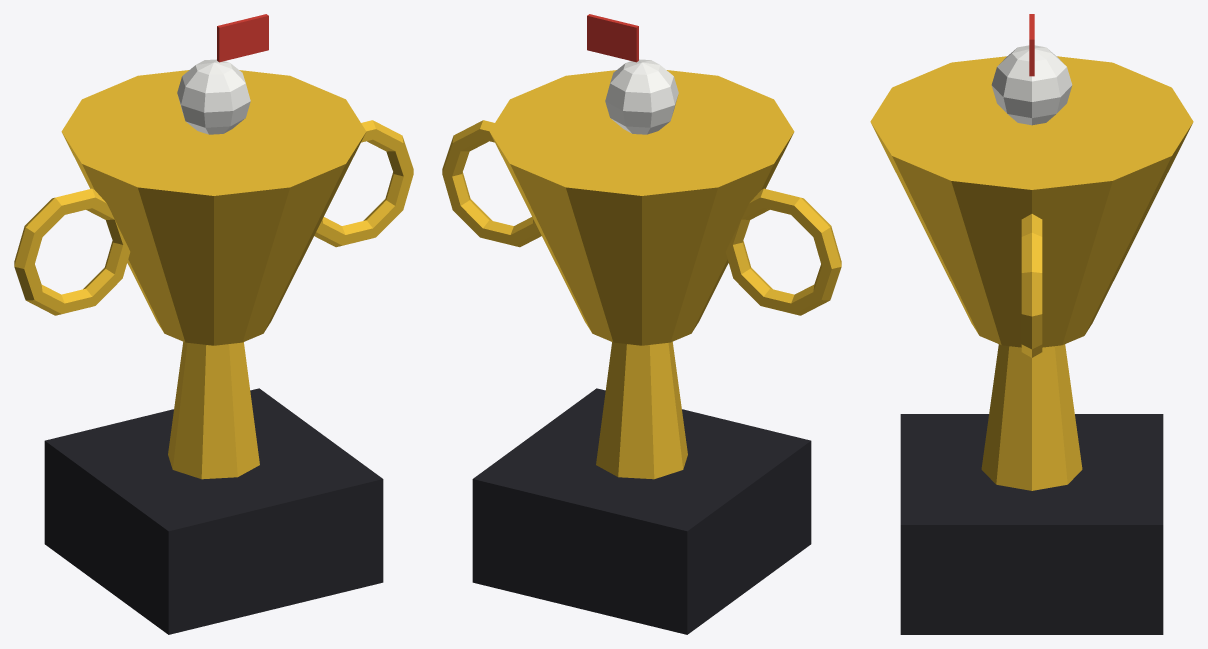
File: gold_trophy.glb
3 renders of one model, left to right at view 1: azimuth 30°, elevation 25°; view 2: azimuth 150°, elevation 25°; view 3: azimuth 270°, elevation 25°, orthographic. The views are drawn at different scales.
Visible parts, largest first — view 1: base_golf_trophy_base, cup_golf_gold, stem_golf_gold, handle_golf_gold, ball_golf_ball, flag_golf_flag; view 2: base_golf_trophy_base, cup_golf_gold, stem_golf_gold, handle_golf_gold, ball_golf_ball, flag_golf_flag; view 3: cup_golf_gold, base_golf_trophy_base, stem_golf_gold, ball_golf_ball, handle_golf_gold.
Part boxes in pixels (box(x1,y1,x2,y2)): base_golf_trophy_base: box(44, 388, 383, 634); cup_golf_gold: box(61, 70, 366, 345); stem_golf_gold: box(168, 342, 259, 479); handle_golf_gold: box(14, 120, 413, 315); ball_golf_ball: box(177, 59, 250, 134); flag_golf_flag: box(217, 14, 268, 62); base_golf_trophy_base: box(472, 388, 811, 634); cup_golf_gold: box(489, 70, 794, 345); stem_golf_gold: box(596, 342, 687, 479); handle_golf_gold: box(442, 120, 841, 315); ball_golf_ball: box(605, 59, 678, 134); flag_golf_flag: box(587, 14, 638, 62); cup_golf_gold: box(870, 56, 1193, 347); base_golf_trophy_base: box(900, 414, 1163, 634); stem_golf_gold: box(981, 344, 1082, 490); ball_golf_ball: box(991, 45, 1072, 125); handle_golf_gold: box(1021, 214, 1042, 357).
Bounding box in the file's own units: 0.484 × 0.62 × 0.32.
